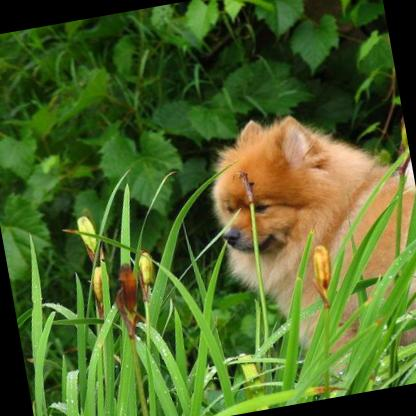Pomeranian: (197, 92, 416, 375)
